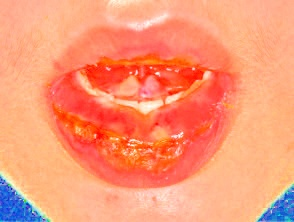SJS-TEN: (30, 0, 273, 222)
